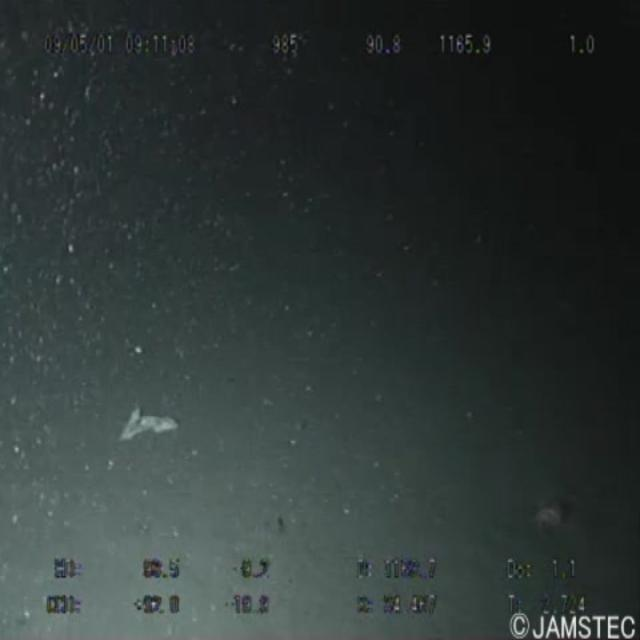Plastic: (116, 385, 185, 456)
